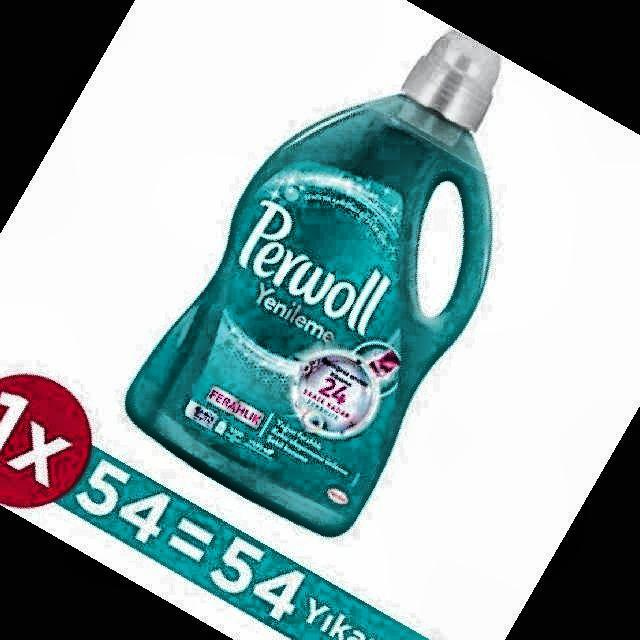plastic: (126, 31, 500, 536)
